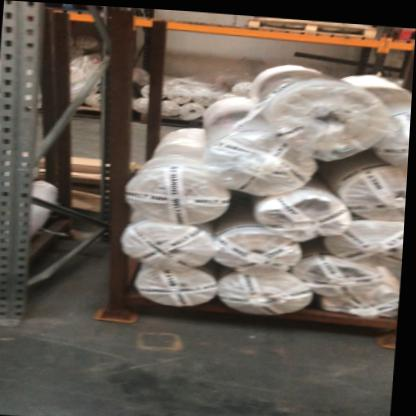vertical_damage: (1, 291, 37, 332)
